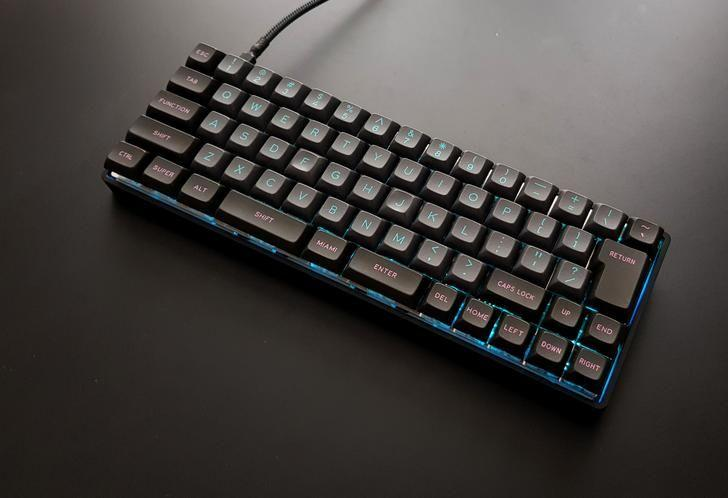keyboard: (100, 40, 671, 411)
